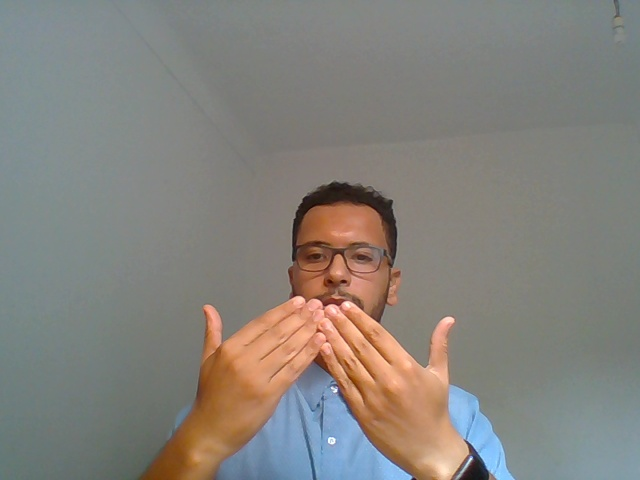thanks: (140, 292, 535, 480)
